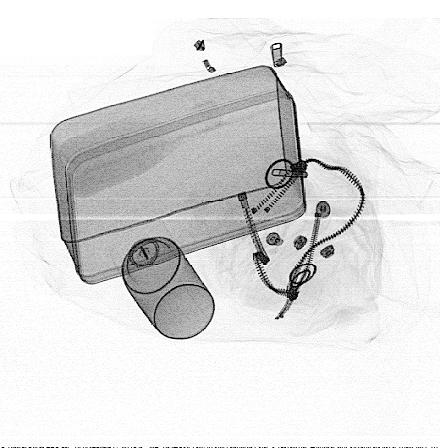Sprayer: (106, 216, 215, 341)
